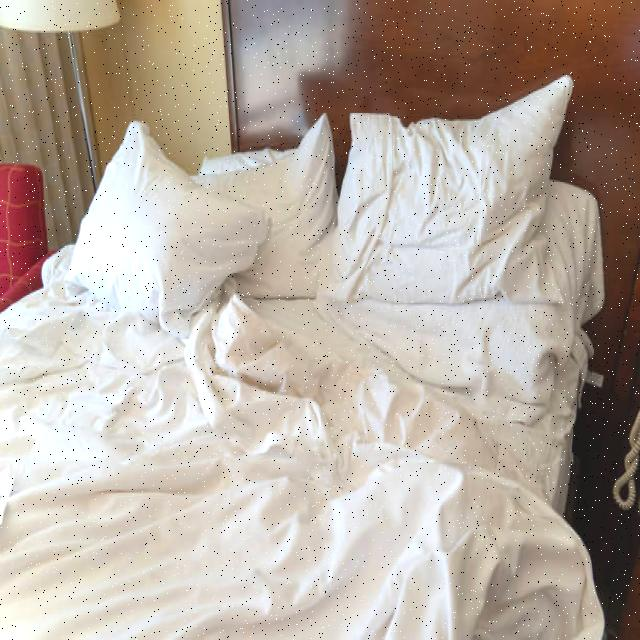bed: (0, 52, 602, 640)
